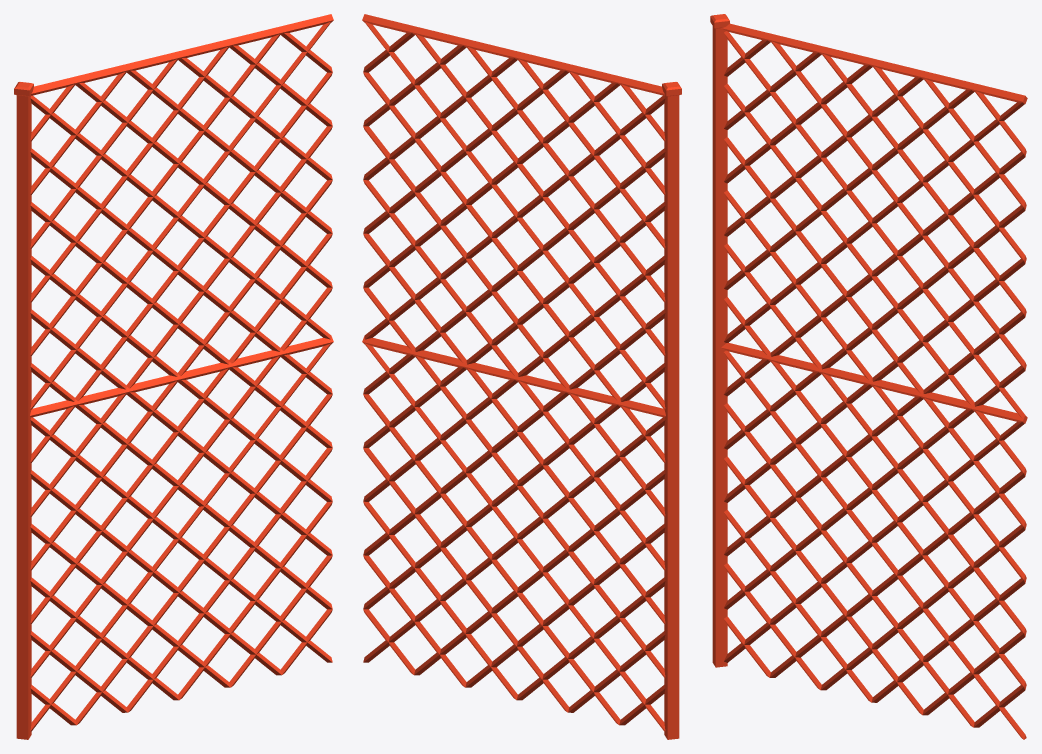
Rendered from SM_Fence_Chainlink_Tall_2m_City.fbx.
3 renders of one model, left to right at view 1: azimuth 30°, elevation 25°; view 2: azimuth 150°, elevation 25°; view 3: azimuth 330°, elevation 25°, orthographic.
Parts seen in each view (by area): view 1: SM_Fence_Chainlink_Tall_2m_City; view 2: SM_Fence_Chainlink_Tall_2m_City; view 3: SM_Fence_Chainlink_Tall_2m_City.
Boxes of the visible parts, x1,y1,x2,y2 form: SM_Fence_Chainlink_Tall_2m_City: [14, 14, 333, 739]; SM_Fence_Chainlink_Tall_2m_City: [362, 14, 681, 739]; SM_Fence_Chainlink_Tall_2m_City: [710, 14, 1027, 739].
Bounding box in the file's own units: 2.06 × 4.05 × 0.1295.
